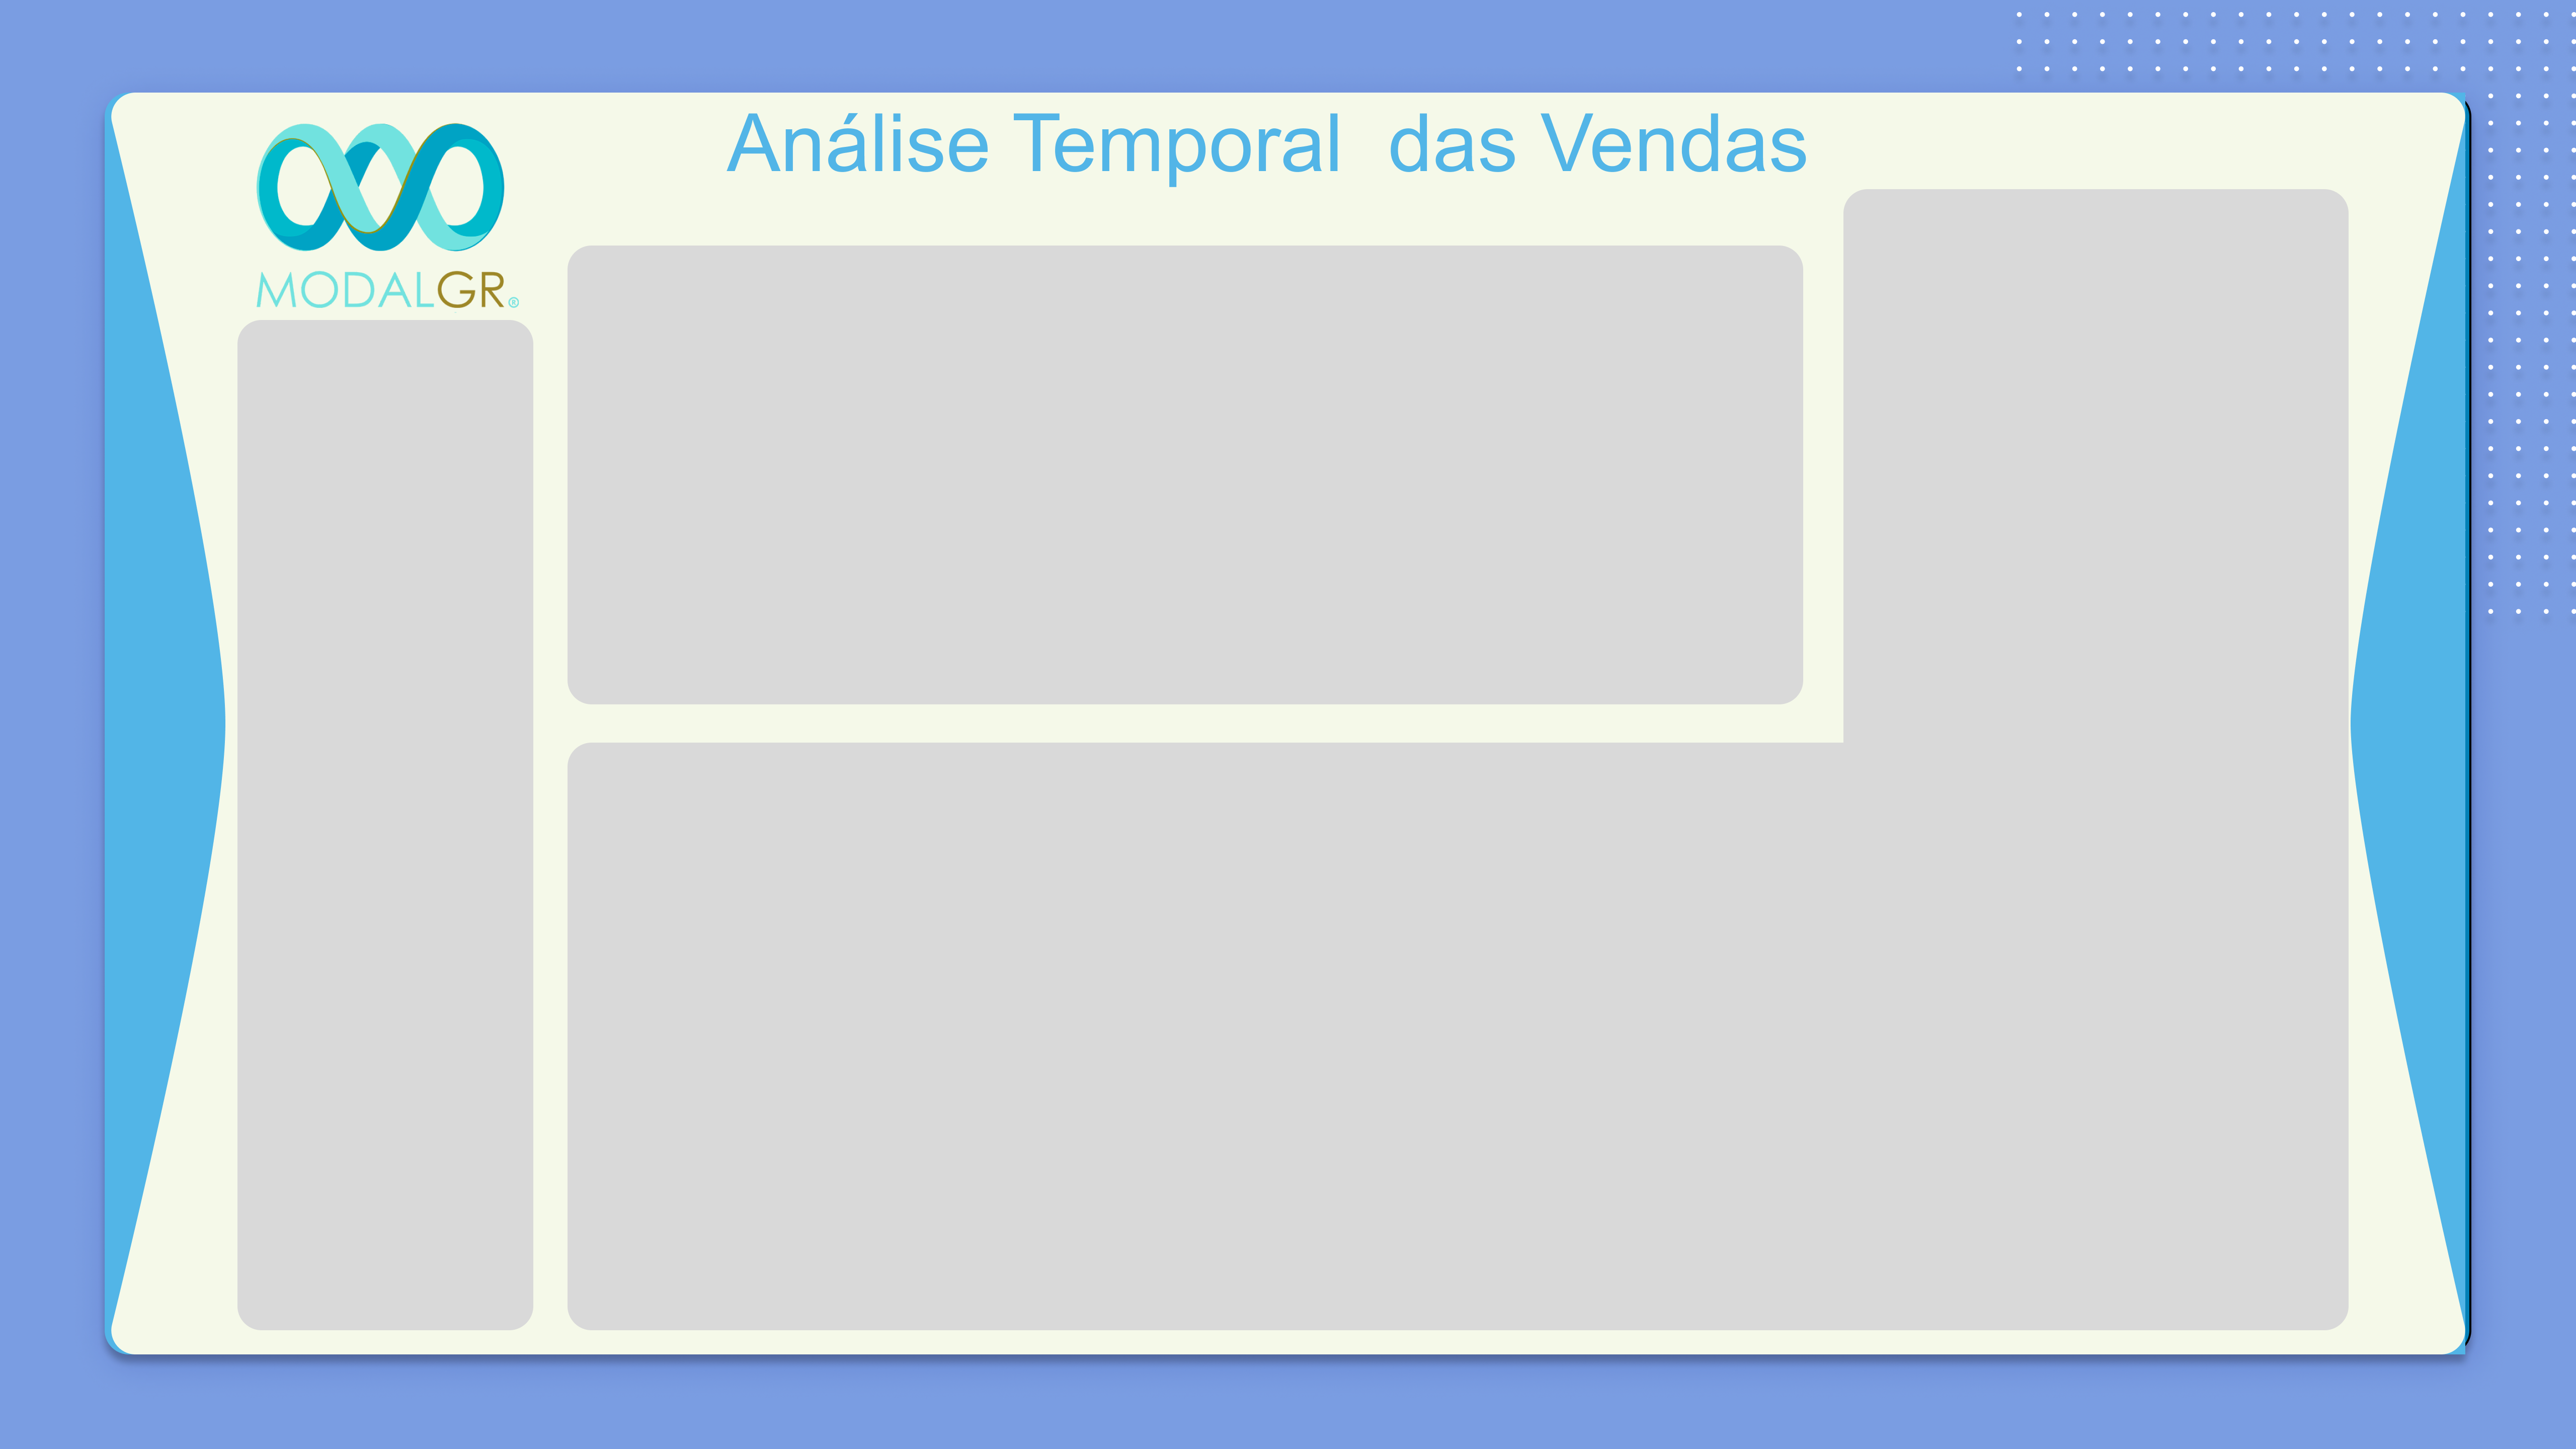

What the dashboard file says about the page in this screenshot:
{"tool":"powerbi","page":{"name":"Grupo de Análise 5: Temporalidade e Tendências","canvas":[1280,720],"ordinal":4},"visuals":[{"type":"areaChart","fields":{"Category":["Vendas.Data Venda.Variation.Hierarquia de datas.Mês"],"Y":["Medidas.Receita Total","Medidas.Lucro Total"]},"box":[277.8,379.8,875.9,304.7],"z":0},{"type":"pivotTable","title":"Variação percentual do Lucro e Receita entre os meses","fields":{"Rows":["Vendas.Data Venda.Variation.Hierarquia de datas.Mês"],"Values":["Vendas.Receita Total MoM%","Vendas.Lucro Total MoM%"]},"box":[918.4,102,255.1,277.8],"z":1000},{"type":"advancedSlicerVisual","title":"Ano","fields":{"Values":["Vendas.Data Venda.Variation.Hierarquia de datas.Ano"]},"box":[119.1,161.6,143.1,503.1],"z":2000},{"type":"clusteredColumnChart","title":"Vendas por Mês","fields":{"Category":["Vendas.Data Venda.Variation.Hierarquia de datas.Mês"],"Y":["Medidas.Total de Vendas"]},"box":[287.7,126.1,600.9,228.2],"z":3000},{"type":"actionButton","box":[60.9,340.2,39.7,39.7],"z":4000}]}

Visuals, with their boxes in screenshot pixels (x1, y1, x2, y2), scaled from the page's 1280x720 canvas onto the 2576x1449 screenshot:
areaChart - Vendas.Data Venda.Variation.Hierarquia de datas.Mês x Medidas.Receita Total: <region>559, 764, 2322, 1378</region>
"Variação percentual do Lucro e Receita entre os meses" pivotTable: <region>1848, 205, 2362, 764</region>
"Ano" advancedSlicerVisual: <region>239, 325, 528, 1338</region>
"Vendas por Mês" clusteredColumnChart: <region>579, 254, 1788, 713</region>
actionButton: <region>123, 685, 202, 765</region>
